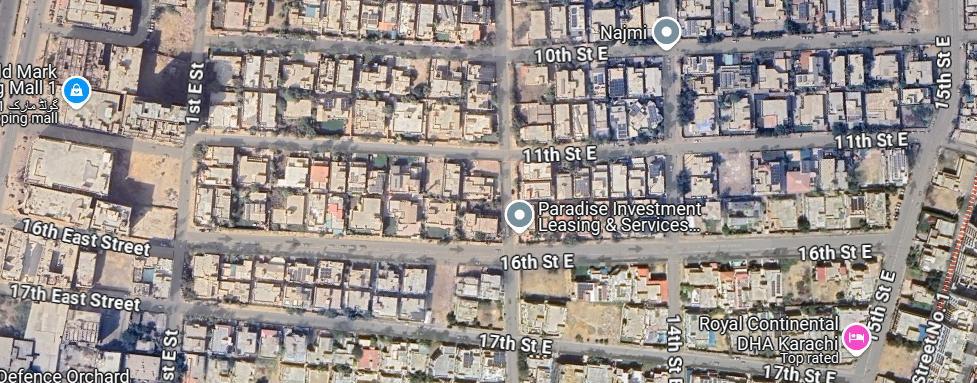Buildings: (193, 146, 505, 246), (197, 47, 500, 146), (676, 42, 949, 141), (188, 255, 505, 335), (684, 257, 883, 363), (682, 146, 919, 235), (29, 31, 197, 150), (5, 132, 185, 242), (0, 224, 175, 305), (515, 154, 668, 246), (518, 260, 675, 345), (513, 60, 666, 146)
